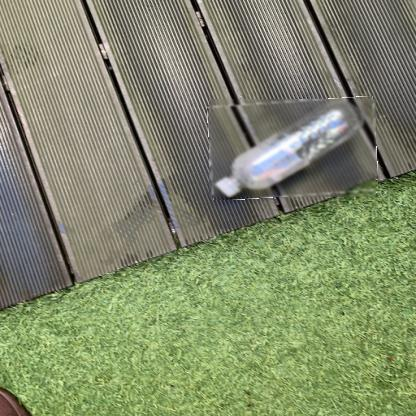plastic-bottles: (210, 100, 378, 199)
